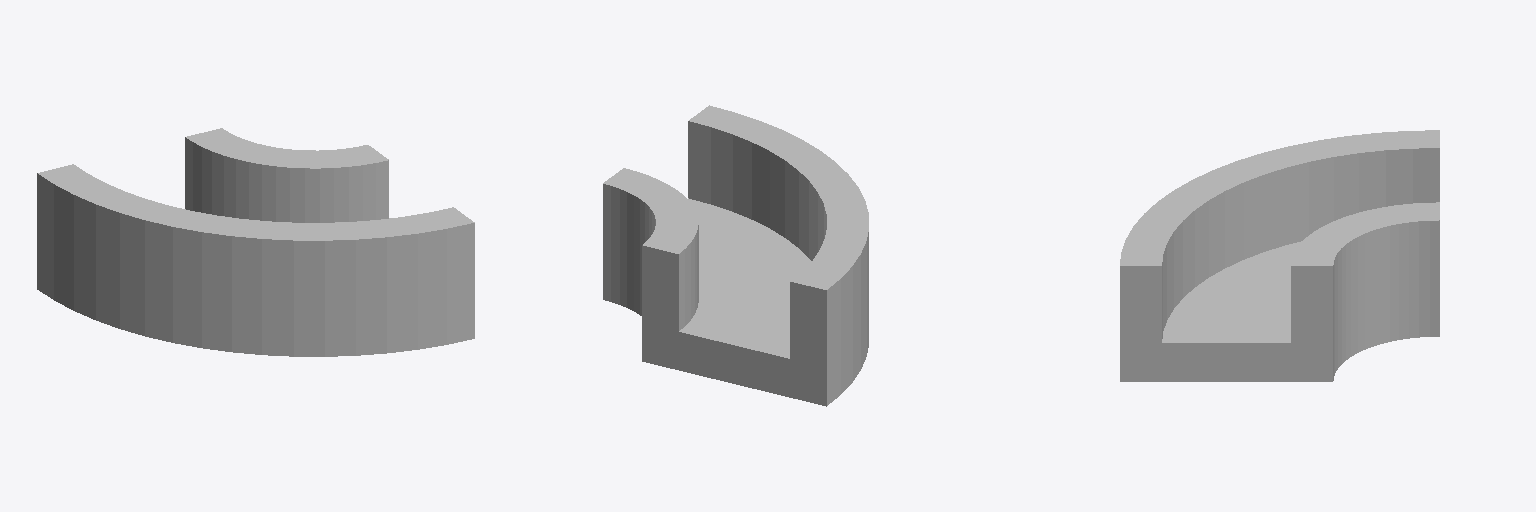
The model's file is CornerThin.obj.
3 renders of one model, left to right at view 1: azimuth 30°, elevation 25°; view 2: azimuth 150°, elevation 25°; view 3: azimuth 270°, elevation 25°, orthographic.
Parts seen in each view (by area): view 1: CornerThin_; view 2: CornerThin_; view 3: CornerThin_.
Boxes of the visible parts, box(x1,y1,x2,y2) form: CornerThin_: box(37, 128, 474, 356); CornerThin_: box(603, 105, 868, 406); CornerThin_: box(1120, 130, 1439, 381).
Size of the model in its own units: 1.5 by 0.6 by 1.5.